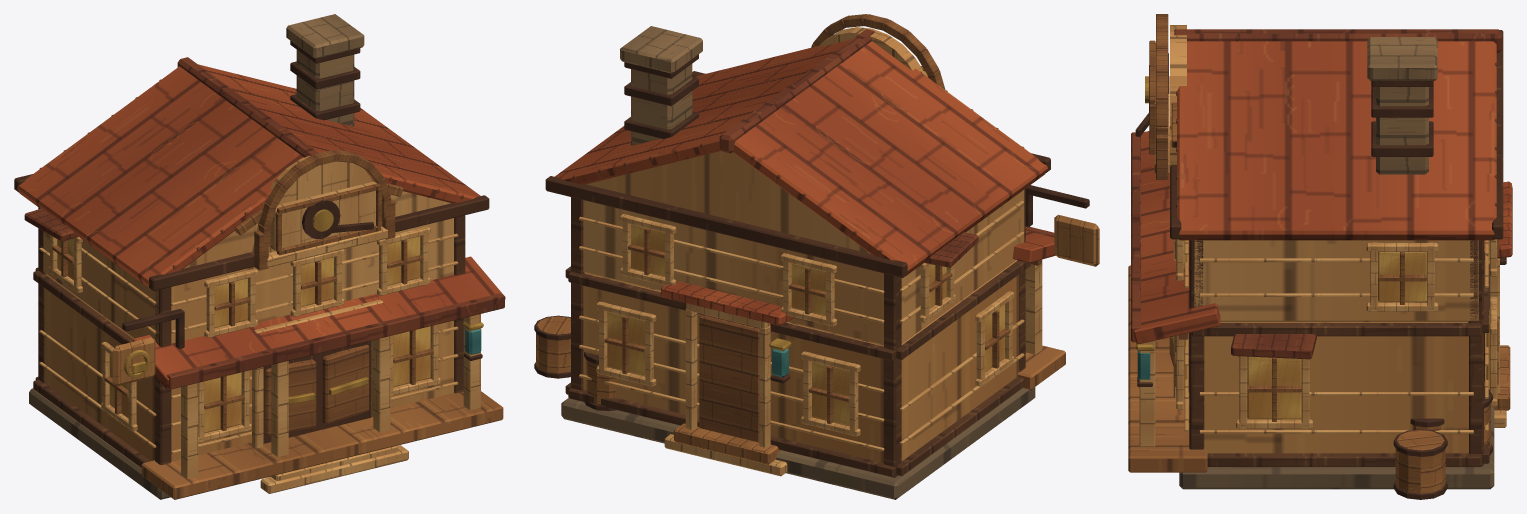
File: tavern-2-fullwrap.glb
3 views of the same model, side by side, from view 1: azimuth 30°, elevation 25°; view 2: azimuth 150°, elevation 25°; view 3: azimuth 270°, elevation 25° (orthographic). The views are drawn at different scales.
Visible parts, largest first — view 1: Tavern_2_FullWrap_Painted; view 2: Tavern_2_FullWrap_Painted; view 3: Tavern_2_FullWrap_Painted.
Part boxes in pixels (<box>): Tavern_2_FullWrap_Painted: <box>14,14,505,499</box>; Tavern_2_FullWrap_Painted: <box>534,14,1099,499</box>; Tavern_2_FullWrap_Painted: <box>1128,14,1512,499</box>.
Bounding box in the file's own units: 5.13 × 3.96 × 3.39.
Materials: 1 (1 with a texture image).
